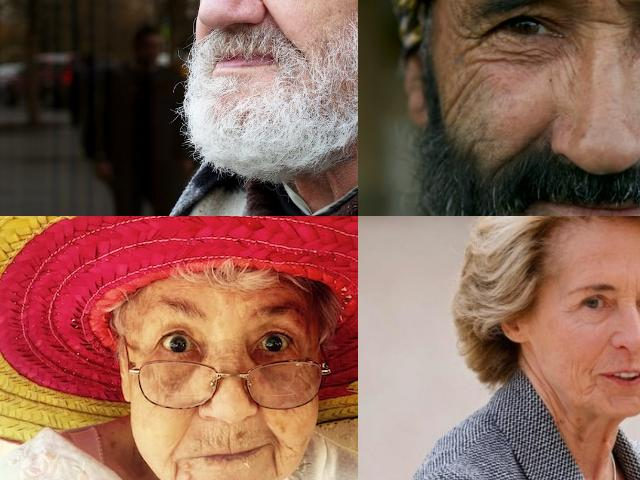crows_feet: (457, 23, 488, 63), (561, 302, 579, 318)
frown_line: (618, 278, 640, 298), (603, 0, 624, 15)
gummy_smile: (514, 118, 552, 156), (262, 3, 288, 38), (172, 411, 194, 451), (590, 331, 610, 366), (260, 414, 282, 445)
masseter: (450, 73, 478, 121), (566, 355, 582, 387)
sad_smile: (266, 447, 280, 479), (168, 457, 181, 480)
smoker_lines: (224, 430, 238, 452)
